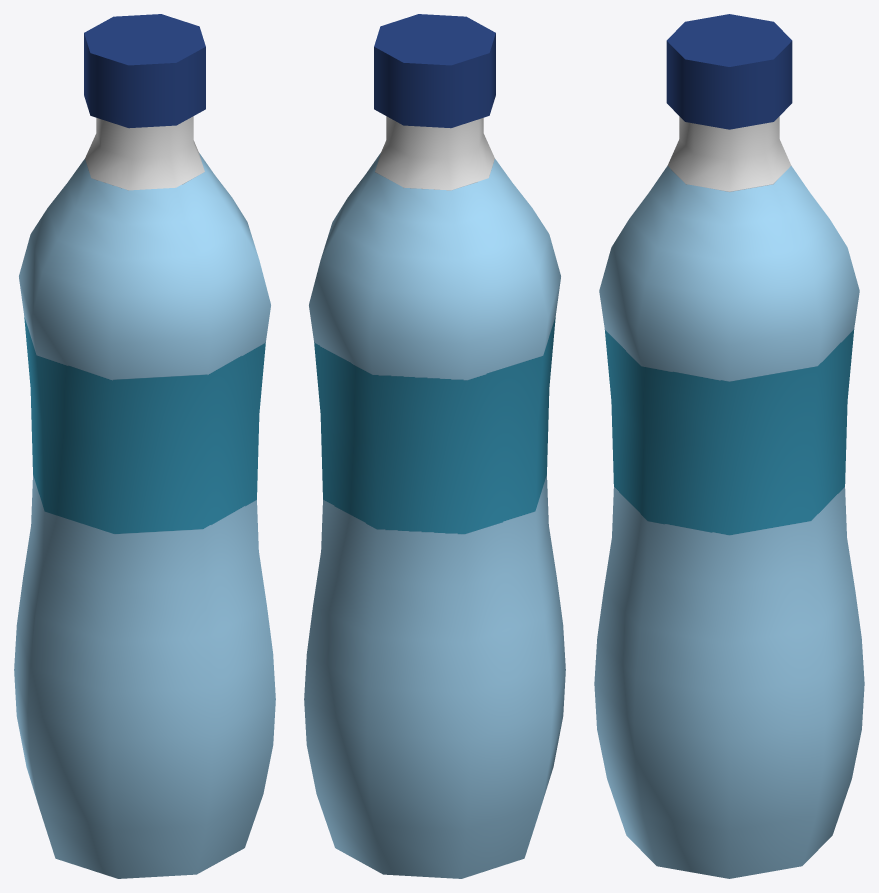
File: water-bottle.fbx
The picture shows the model from 3 angles, left to right: view 1: azimuth 30°, elevation 25°; view 2: azimuth 150°, elevation 25°; view 3: azimuth 270°, elevation 25°; orthographic projection.
Visible parts, largest first — view 1: water bottle; view 2: water bottle; view 3: water bottle.
Boxes of the visible parts, bbox=[...] form: water bottle: bbox=[14, 14, 275, 878]; water bottle: bbox=[304, 14, 565, 878]; water bottle: bbox=[594, 14, 864, 878].
Size of the model in its own units: 21.68 by 70.34 by 21.68.
Materials: 3 (2 with a texture image).
